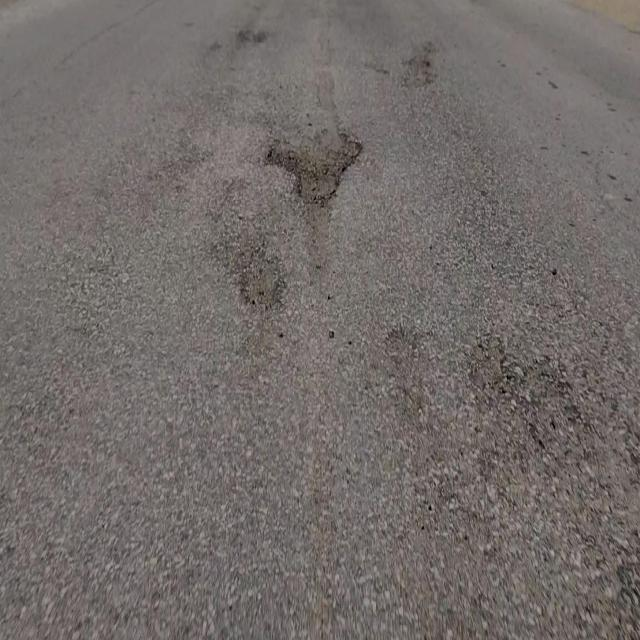Potholes: (263, 121, 365, 207), (232, 244, 289, 313)
